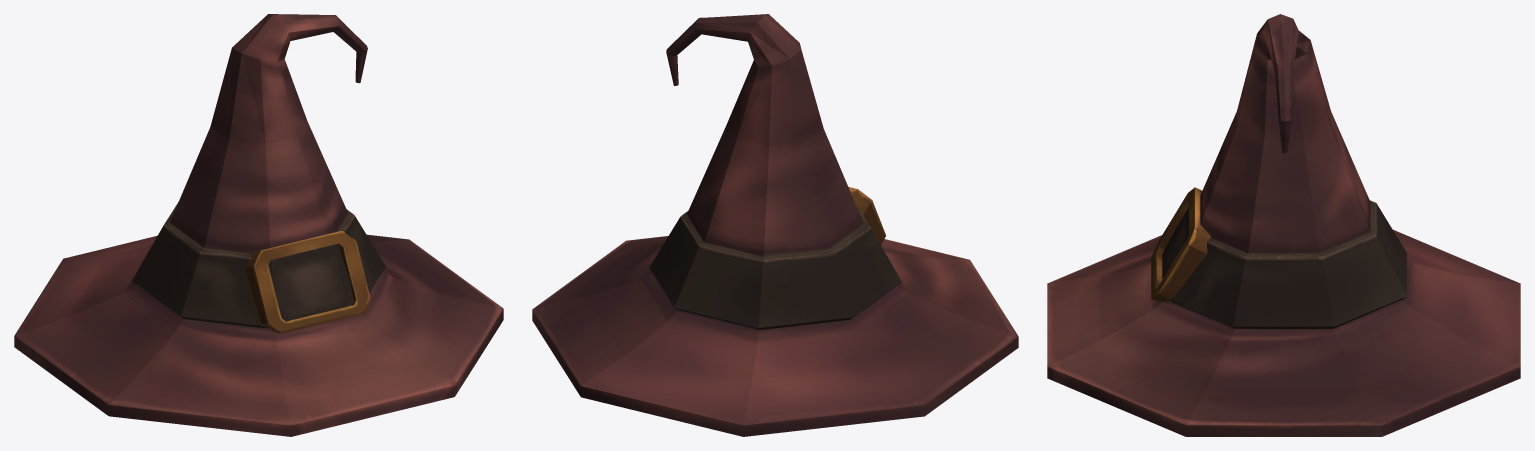
Rendered from 98_wizard hat.FBX.
The picture shows the model from 3 angles, left to right: view 1: azimuth 30°, elevation 25°; view 2: azimuth 150°, elevation 25°; view 3: azimuth 270°, elevation 25°; orthographic projection. The views are drawn at different scales.
Parts seen in each view (by area): view 1: Cylinder022; view 2: Cylinder022; view 3: Cylinder022.
Boxes of the visible parts, bbox=[...] form: Cylinder022: bbox=[14, 14, 503, 436]; Cylinder022: bbox=[532, 14, 1018, 436]; Cylinder022: bbox=[1047, 14, 1520, 436].
Bounding box in the file's own units: 61.31 × 47 × 61.31.
